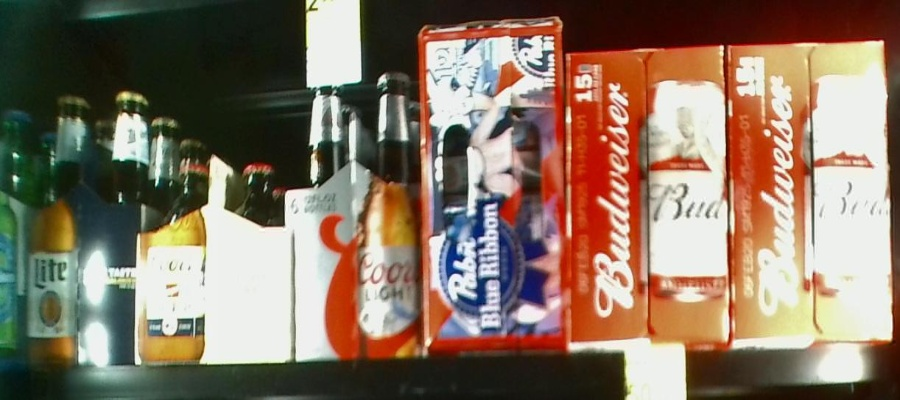bottle: (728, 41, 893, 342), (569, 42, 728, 349), (418, 23, 563, 352), (298, 69, 419, 359), (138, 135, 293, 353), (34, 85, 138, 367)
